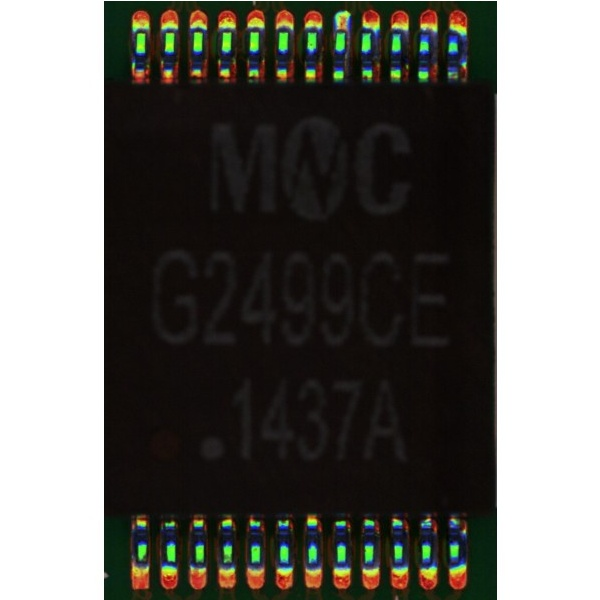Bad_podu: (335, 22, 343, 39)
Bad_qiaojiao: (344, 29, 349, 79)
